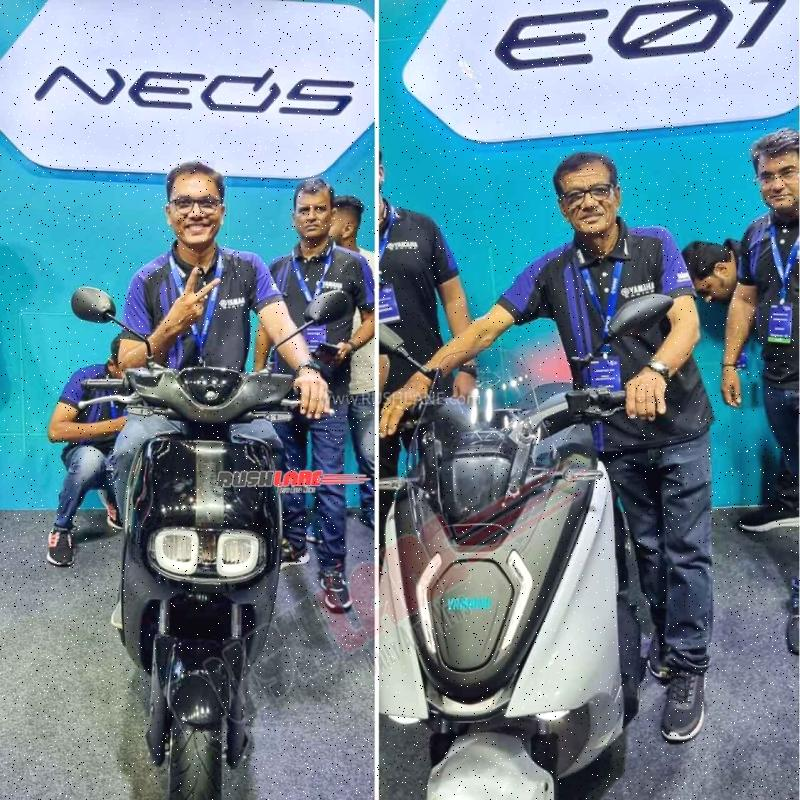bike: (386, 272, 671, 800), (80, 261, 352, 800)
